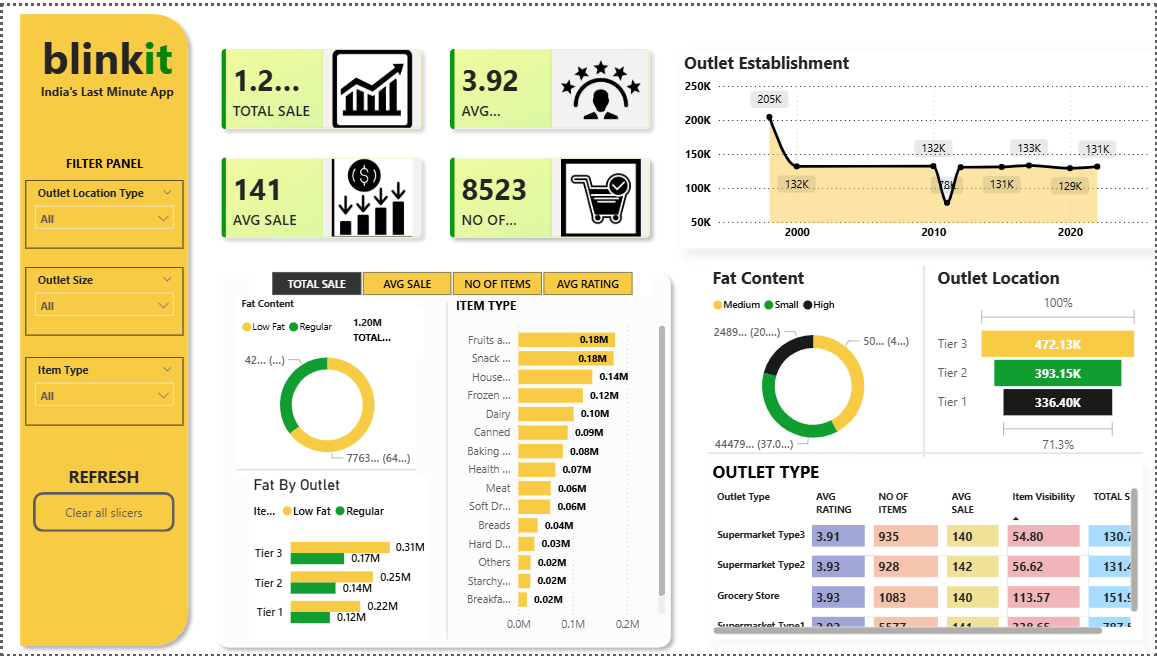

The page's visual inventory and layout, read from the dashboard file:
{"tool":"powerbi","page":{"name":"Page 1","canvas":[1280,720],"ordinal":0},"visuals":[{"type":"shape","box":[9.4,0,205,720],"z":0},{"type":"textbox","box":[28.3,18.3,175,81.7],"z":1000},{"type":"textbox","box":[28.3,80,175,31.7],"z":2000},{"type":"cardVisual","fields":{"Data":["BlinkIT Grocery Data.TOTAL SALE","BlinkIT Grocery Data.AVG RATING","BlinkIT Grocery Data.AVG SALE","BlinkIT Grocery Data.NO OF ITEMS"]},"box":[213.5,18.2,534.5,269.5],"z":3000},{"type":"shape","box":[228.6,287.7,522.4,433.1],"z":4000},{"type":"donutChart","title":"Fat Content","fields":{"Y":["BlinkIT Grocery Data.TOTAL SALE"],"Category":["BlinkIT Grocery Data.Item Fat Content"]},"box":[260.4,322.5,199.9,198.4],"z":5000},{"type":"slicer","fields":{"Values":["metrics.metrics"]},"box":[272.6,287.7,449.7,34.8],"z":6000},{"type":"cardVisual","fields":{"Data":["BlinkIT Grocery Data.TOTAL SALE"]},"box":[360.4,328.6,112.1,62.1],"z":7000},{"type":"clusteredBarChart","title":"Fat By Outlet","fields":{"Y":["BlinkIT Grocery Data.TOTAL SALE"],"Category":["BlinkIT Grocery Data.Outlet Location Type"],"Series":["BlinkIT Grocery Data.Item Fat Content"]},"box":[272.6,520.9,199.9,183.2],"z":8000},{"type":"shape","box":[260.4,510.3,199.9,10.6],"z":9000},{"type":"shape","box":[487.6,328.6,10.6,375.5],"z":10000},{"type":"barChart","title":"ITEM TYPE","fields":{"Y":["BlinkIT Grocery Data.TOTAL SALE"],"Category":["BlinkIT Grocery Data.Item Type"]},"box":[498.2,322.5,242.3,381.6],"z":11000},{"type":"lineChart","title":" Outlet Establishment ","fields":{"Category":["BlinkIT Grocery Data.Outlet Establishment Year"],"Y":["BlinkIT Grocery Data.TOTAL SALE"]},"box":[751,50,528.5,219.6],"z":12000},{"type":"donutChart","title":"Fat Content","fields":{"Y":["BlinkIT Grocery Data.TOTAL SALE"],"Category":["BlinkIT Grocery Data.Outlet Size"]},"box":[782.8,287.7,233.2,216.5],"z":13000},{"type":"funnel","title":"Outlet Location","fields":{"Y":["Sum(BlinkIT Grocery Data.Total Sales)"],"Category":["BlinkIT Grocery Data.Outlet Location Type"]},"box":[1032.7,287.7,233.2,213.5],"z":14000},{"type":"pivotTable","title":"OUTLET TYPE","fields":{"Rows":["BlinkIT Grocery Data.Outlet Type"],"Values":["BlinkIT Grocery Data.AVG RATING","BlinkIT Grocery Data.NO OF ITEMS","BlinkIT Grocery Data.AVG SALE","Sum(BlinkIT Grocery Data.Item Visibility)","BlinkIT Grocery Data.TOTAL SALE"]},"box":[782.8,505.7,483,198.4],"z":15000},{"type":"shape","box":[1013,287.7,19.7,213.5],"z":16000},{"type":"shape","box":[782.8,490.6,483,13.6],"z":17000},{"type":"slicer","fields":{"Values":["BlinkIT Grocery Data.Outlet Location Type"]},"box":[24.2,193.8,175.6,75.7],"z":18000},{"type":"slicer","fields":{"Values":["BlinkIT Grocery Data.Outlet Size"]},"box":[24.2,290.7,175.6,75.7],"z":19000},{"type":"slicer","fields":{"Values":["BlinkIT Grocery Data.Item Type"]},"box":[24.2,390.7,175.6,75.7],"z":20000},{"type":"textbox","box":[24.2,160.5,175.6,33.3],"z":21000},{"type":"actionButton","title":"REFRESH","box":[33.3,510.3,157.5,74.2],"z":21001}]}

Visuals, with their boxes in screenshot pixels (x1, y1, x2, y2), scaled from the page's 1280x720 canvas onto the 1157x656 screenshot:
shape: locate(8, 0, 194, 655)
textbox: locate(26, 17, 184, 91)
textbox: locate(26, 73, 184, 102)
cardVisual - BlinkIT Grocery Data.TOTAL SALE x BlinkIT Grocery Data.AVG RATING: locate(193, 17, 676, 262)
shape: locate(207, 262, 679, 655)
"Fat Content" donutChart: locate(235, 294, 416, 475)
slicer - metrics.metrics: locate(246, 262, 653, 294)
cardVisual - BlinkIT Grocery Data.TOTAL SALE: locate(326, 299, 427, 356)
"Fat By Outlet" clusteredBarChart: locate(246, 475, 427, 642)
shape: locate(235, 465, 416, 475)
shape: locate(441, 299, 450, 642)
"ITEM TYPE" barChart: locate(450, 294, 669, 642)
" Outlet Establishment " lineChart: locate(679, 46, 1156, 246)
"Fat Content" donutChart: locate(708, 262, 918, 459)
"Outlet Location" funnel: locate(933, 262, 1144, 457)
"OUTLET TYPE" pivotTable: locate(708, 461, 1144, 642)
shape: locate(916, 262, 933, 457)
shape: locate(708, 447, 1144, 459)
slicer - BlinkIT Grocery Data.Outlet Location Type: locate(22, 177, 181, 246)
slicer - BlinkIT Grocery Data.Outlet Size: locate(22, 265, 181, 334)
slicer - BlinkIT Grocery Data.Item Type: locate(22, 356, 181, 425)
textbox: locate(22, 146, 181, 177)
"REFRESH" actionButton: locate(30, 465, 172, 533)
